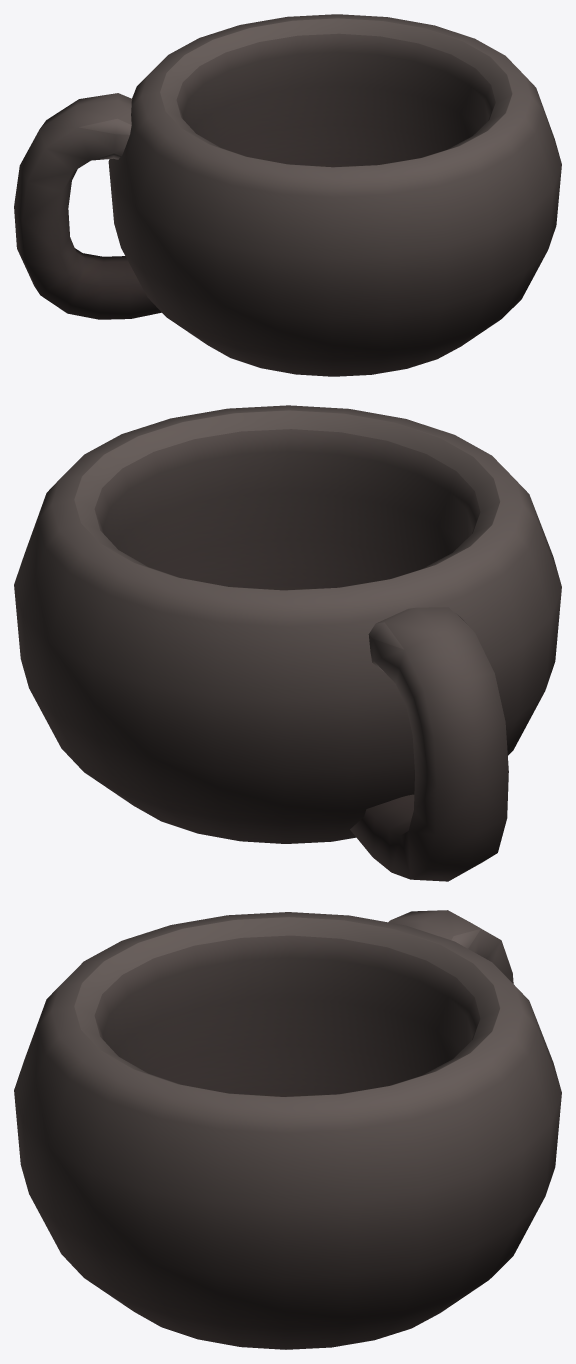
File: Cup_001.fbx
3 renders of one model, top to bottom at view 1: azimuth 30°, elevation 25°; view 2: azimuth 150°, elevation 25°; view 3: azimuth 270°, elevation 25°, orthographic. The views are drawn at different scales.
Visible parts, largest first — view 1: Cup_001; view 2: Cup_001; view 3: Cup_001.
Boxes of the visible parts, <box> form: Cup_001: <box>14,14,561,376</box>; Cup_001: <box>14,405,561,881</box>; Cup_001: <box>14,910,561,1349</box>.
Size of the model in its own units: 0.143 by 0.0737 by 0.1264.
